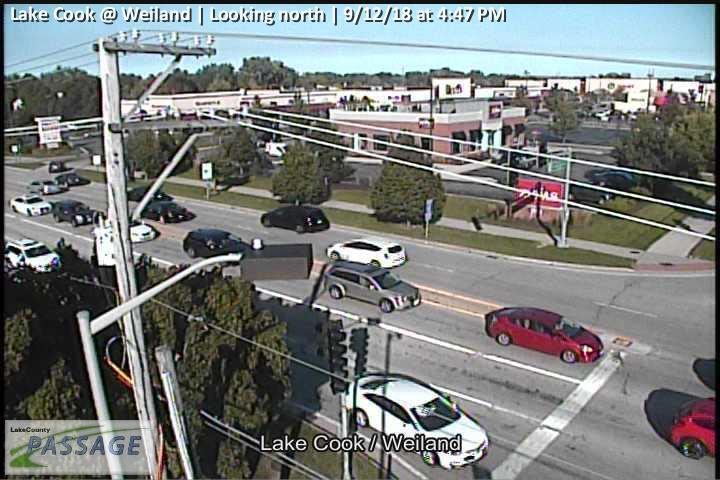SUV: (322, 257, 422, 313), (326, 237, 406, 269), (48, 200, 105, 227)
Sedan: (339, 371, 488, 469), (485, 306, 605, 365), (180, 227, 251, 265), (261, 204, 331, 235), (100, 212, 157, 243), (142, 199, 196, 224), (7, 194, 55, 217), (590, 169, 640, 191), (25, 179, 66, 195), (52, 173, 82, 186)
